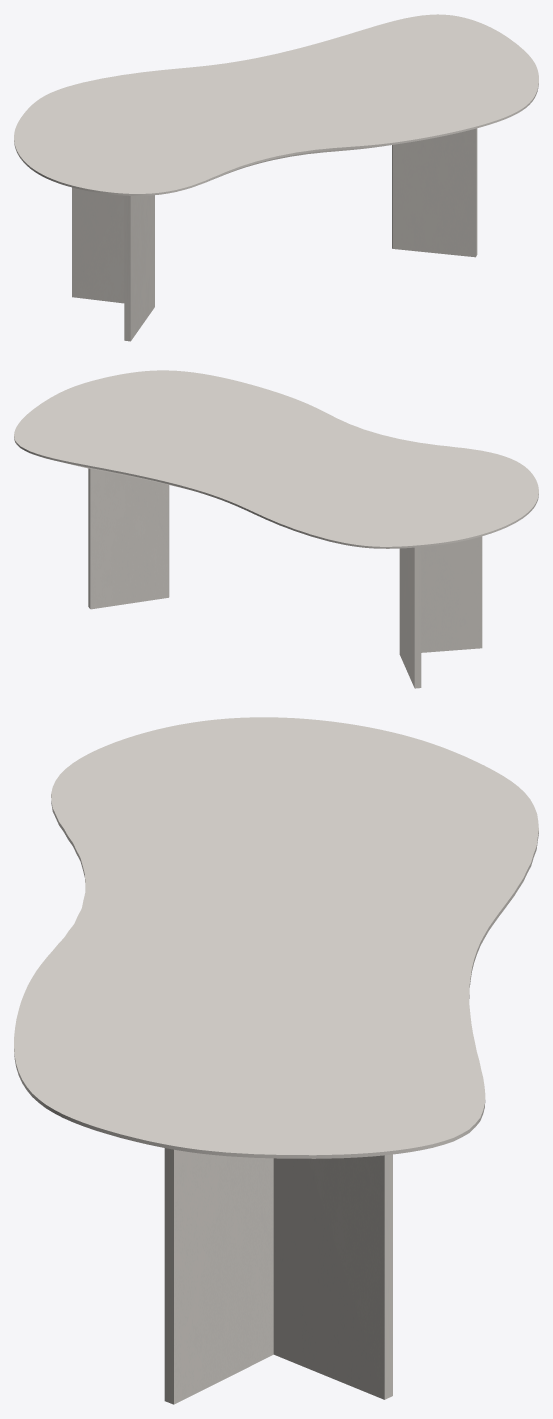
The model's file is pearlwhite_wave_facet_valleyv.glb.
3 views of the same model, one above another, from view 1: azimuth 30°, elevation 25°; view 2: azimuth 150°, elevation 25°; view 3: azimuth 270°, elevation 25° (orthographic). The views are drawn at different scales.
Visible parts, largest first — view 1: facet_wave, valleyv; view 2: facet_wave, valleyv; view 3: facet_wave, valleyv.
Part boxes in pixels (x1,y1,x2,y2): facet_wave: (14, 14, 538, 195); valleyv: (72, 128, 477, 341); facet_wave: (14, 370, 538, 548); valleyv: (88, 468, 482, 688); facet_wave: (14, 717, 538, 1158); valleyv: (164, 1148, 392, 1404).
Bounding box in the file's own units: 7.5 × 2.49 × 3.8.
Materials: 1 (1 with a texture image).
